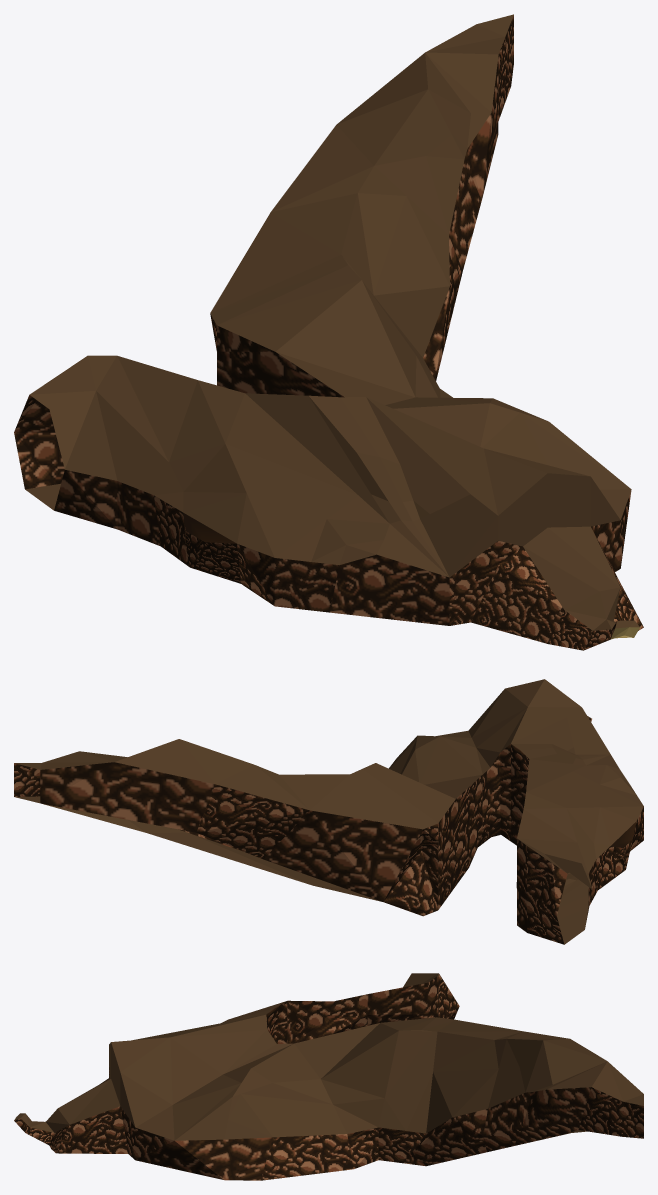
File: Pasillos.fbx
3 views of the same model, one above another, from view 1: azimuth 30°, elevation 25°; view 2: azimuth 150°, elevation 25°; view 3: azimuth 270°, elevation 25° (orthographic). The views are drawn at different scales.
Parts seen in each view (by area): view 1: Pasillos; view 2: Pasillos; view 3: Pasillos.
Part boxes in pixels (x1,y1,x2,y2): Pasillos: [14, 14, 643, 650]; Pasillos: [14, 679, 643, 944]; Pasillos: [14, 973, 643, 1180].
Bounding box in the file's own units: 39205 × 49805 × 14033.
3 materials, 1 textured.
